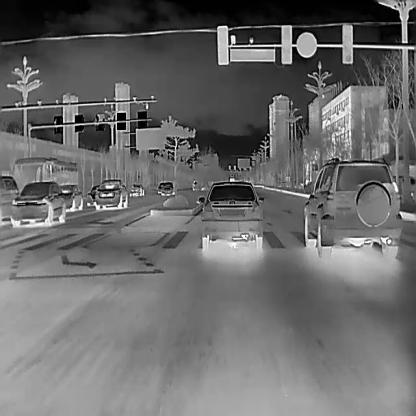bus: (11, 156, 78, 194)
car: (302, 156, 403, 257), (198, 180, 263, 250), (10, 179, 65, 226), (0, 174, 19, 225), (94, 179, 126, 209), (59, 184, 83, 212), (86, 184, 100, 206), (129, 182, 144, 197), (160, 181, 174, 196), (156, 182, 164, 193)
